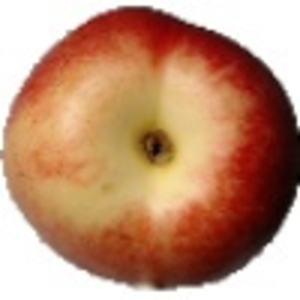nectarina: (1, 2, 300, 293)
